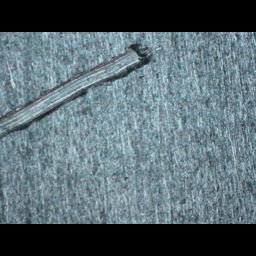d: (0, 42, 152, 141)
